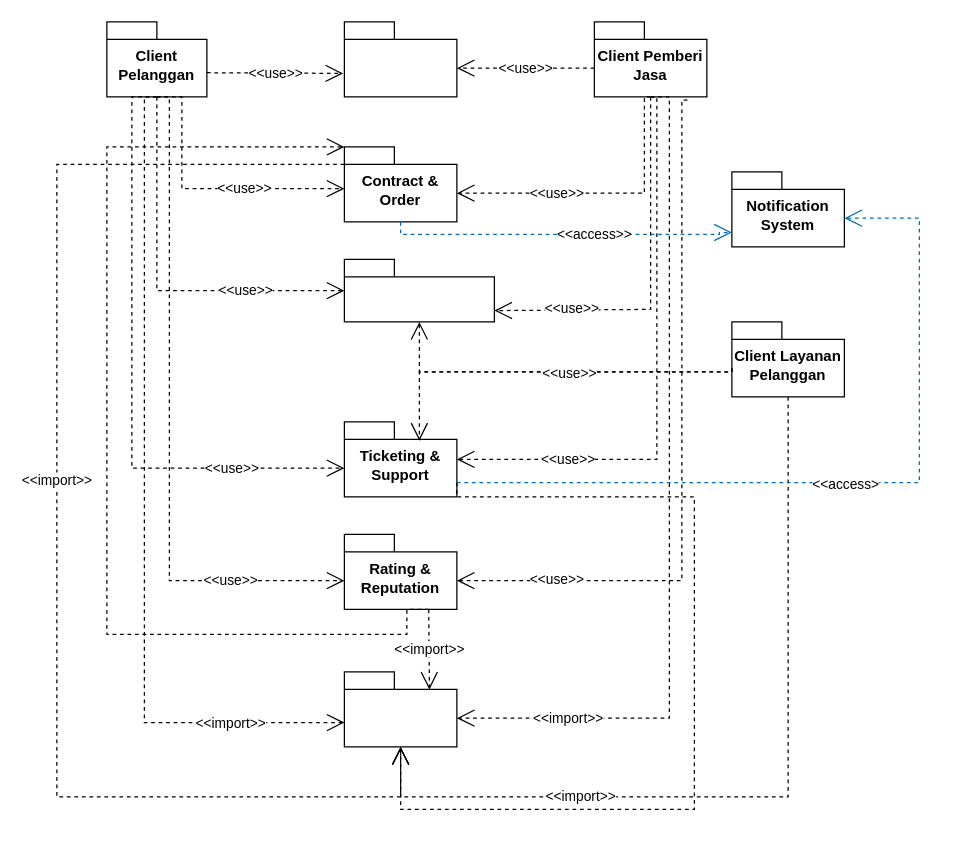
This 959x849 diagram has some shape labels left out. Each missing label, with the box of its shape:
Communication: (343, 258, 494, 322)
Service Catalog: (343, 21, 457, 97)
User & Account: (343, 671, 457, 747)
